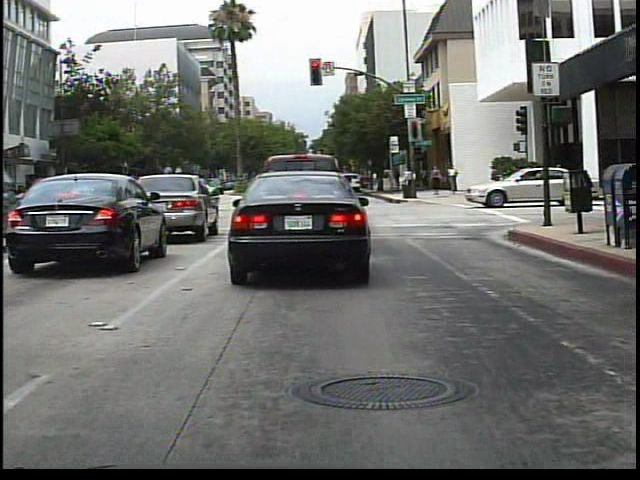person: (509, 156, 531, 200), (428, 160, 446, 199), (443, 162, 461, 197)
